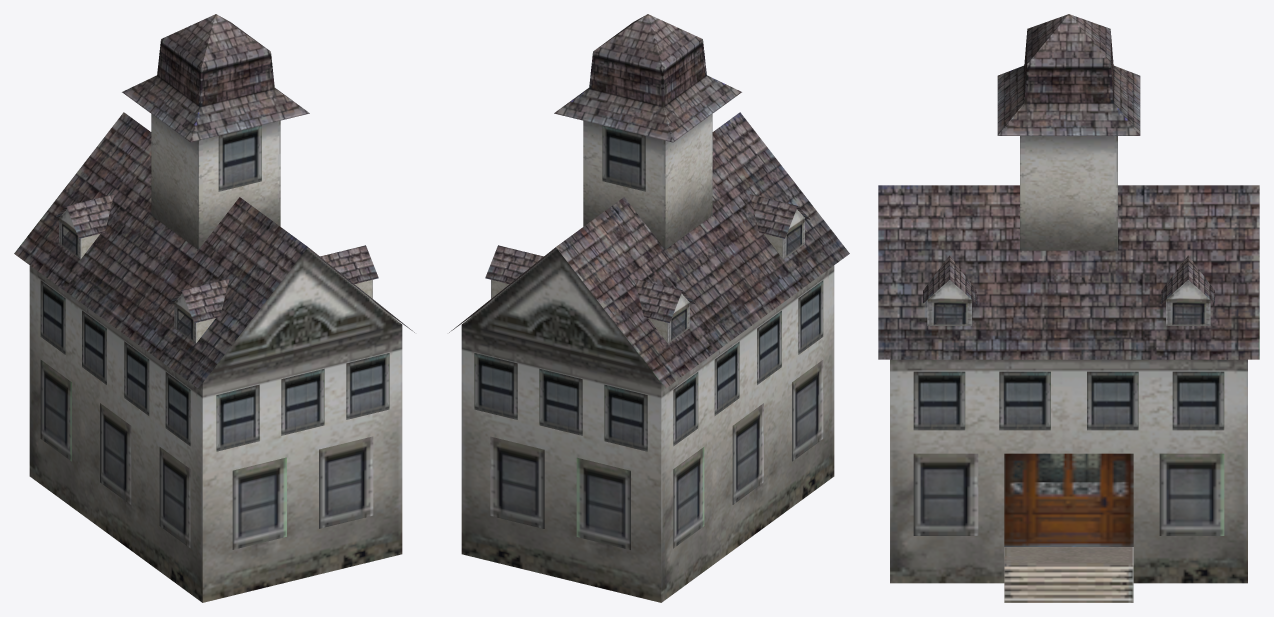
Rendered from Civilian - Residential Building - Stan Schoolhouse 02 - Night - CBTSchlhs_N.glb.
3 views of the same model, side by side, from view 1: azimuth 30°, elevation 25°; view 2: azimuth 150°, elevation 25°; view 3: azimuth 270°, elevation 25° (orthographic). The views are drawn at different scales.
Parts seen in each view (by area): view 1: CBTSCHLHS_N; view 2: CBTSCHLHS_N; view 3: CBTSCHLHS_N.
Boxes of the visible parts, x1,y1,x2,y2 form: CBTSCHLHS_N: [14, 14, 414, 602]; CBTSCHLHS_N: [449, 14, 849, 602]; CBTSCHLHS_N: [878, 14, 1259, 602].
Bounding box in the file's own units: 22.96 × 44.23 × 29.48.
Materials: 1 (1 with a texture image).
